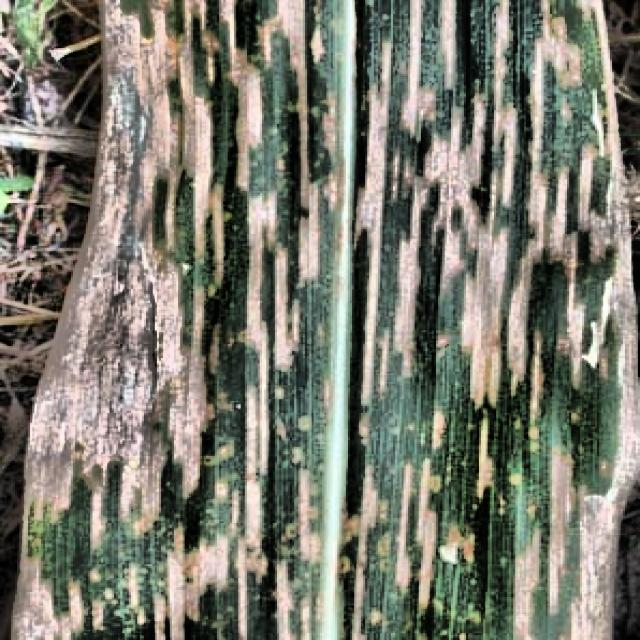gray_spot: (73, 0, 640, 640)
